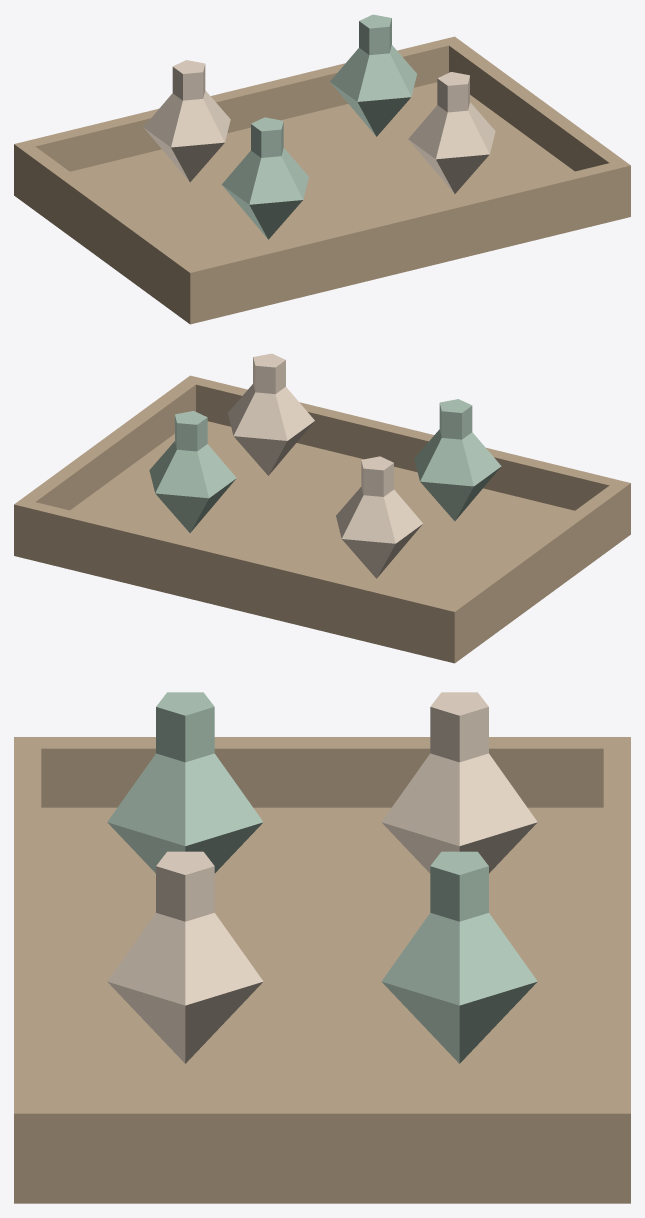
The model's file is prop-perfume-vial-blank.fbx.
3 views of the same model, one above another, from view 1: azimuth 30°, elevation 25°; view 2: azimuth 150°, elevation 25°; view 3: azimuth 270°, elevation 25° (orthographic). The views are drawn at different scales.
Parts seen in each view (by area): view 1: prop-perfume-vial-blank; view 2: prop-perfume-vial-blank; view 3: prop-perfume-vial-blank.
Boxes of the visible parts, x1,y1,x2,y2 form: prop-perfume-vial-blank: [14, 14, 630, 324]; prop-perfume-vial-blank: [14, 353, 630, 663]; prop-perfume-vial-blank: [14, 692, 630, 1203].
Bounding box in the file's own units: 26 × 7.5 × 18.
